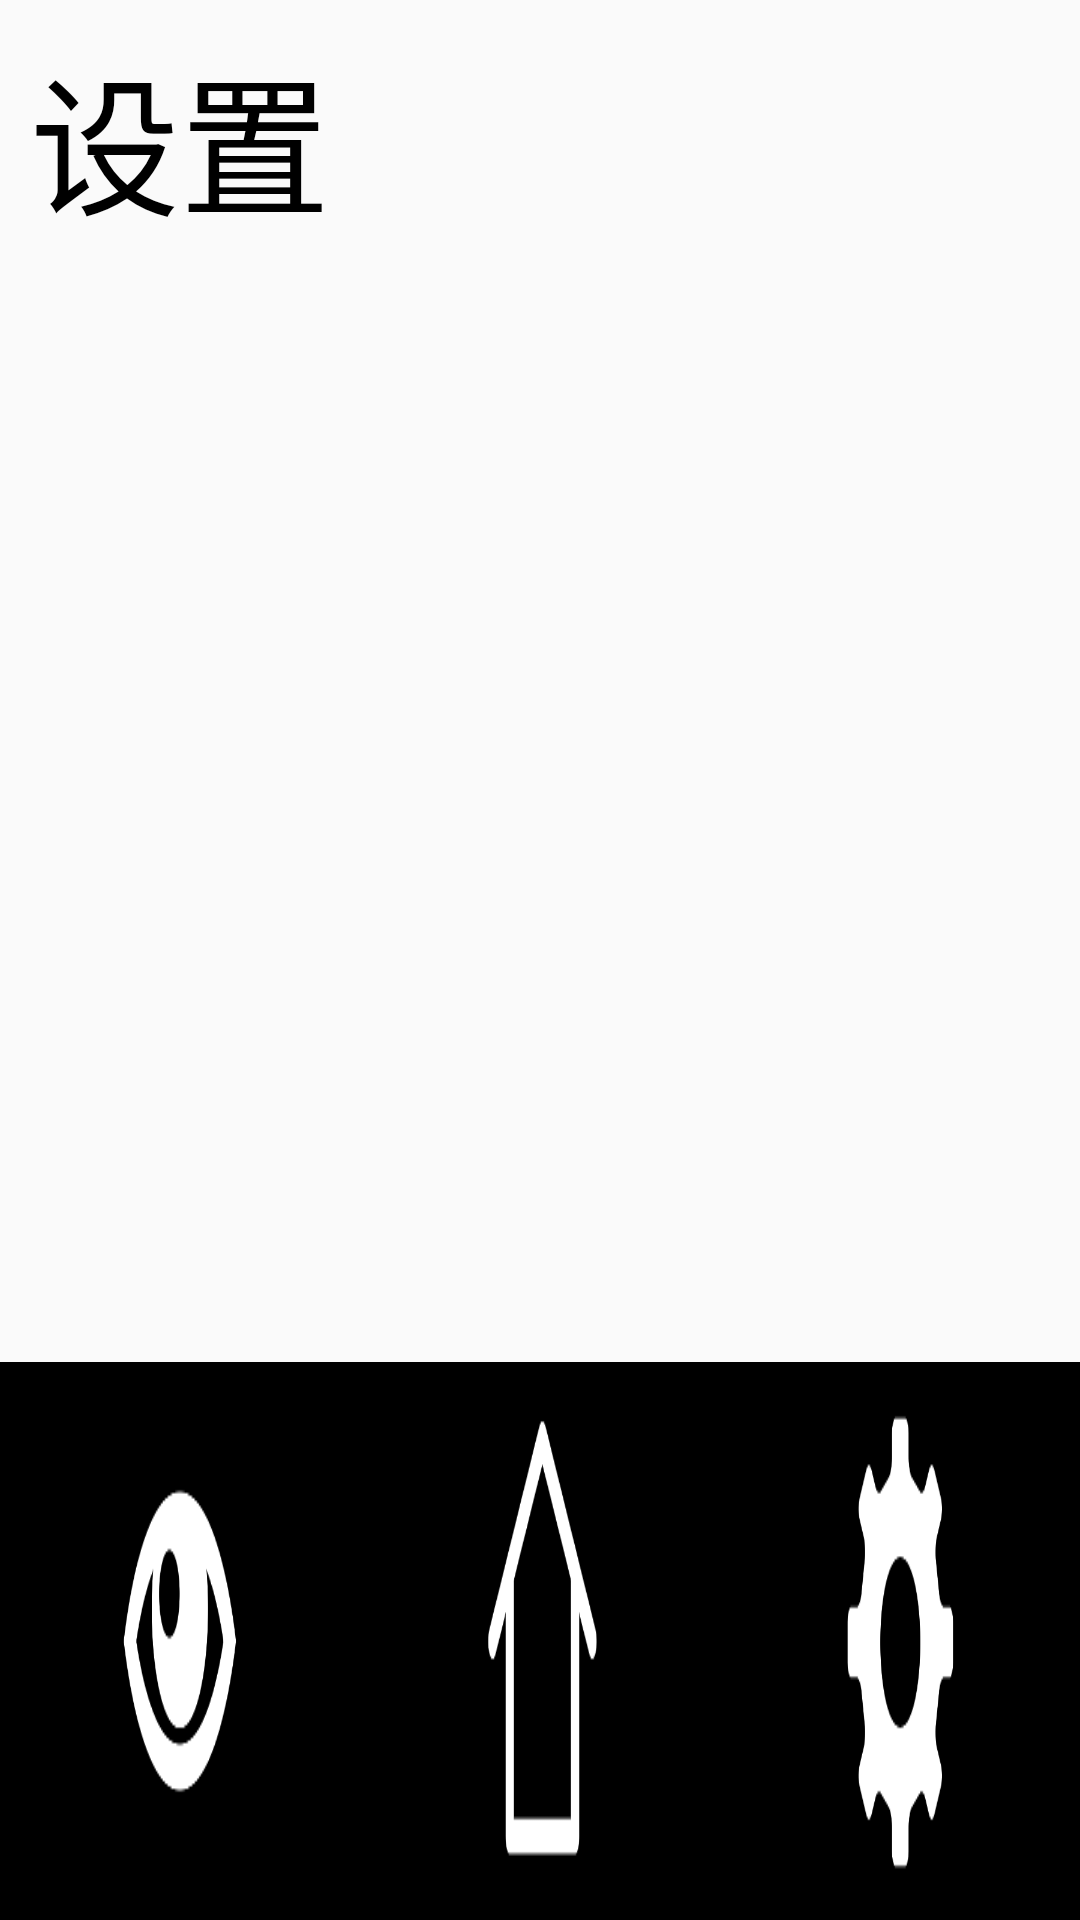

Screen size 1080 × 1920. Icon name, then its box in pixels as (x1, y1, x2, y2):
view: (123, 1490, 236, 1792)
